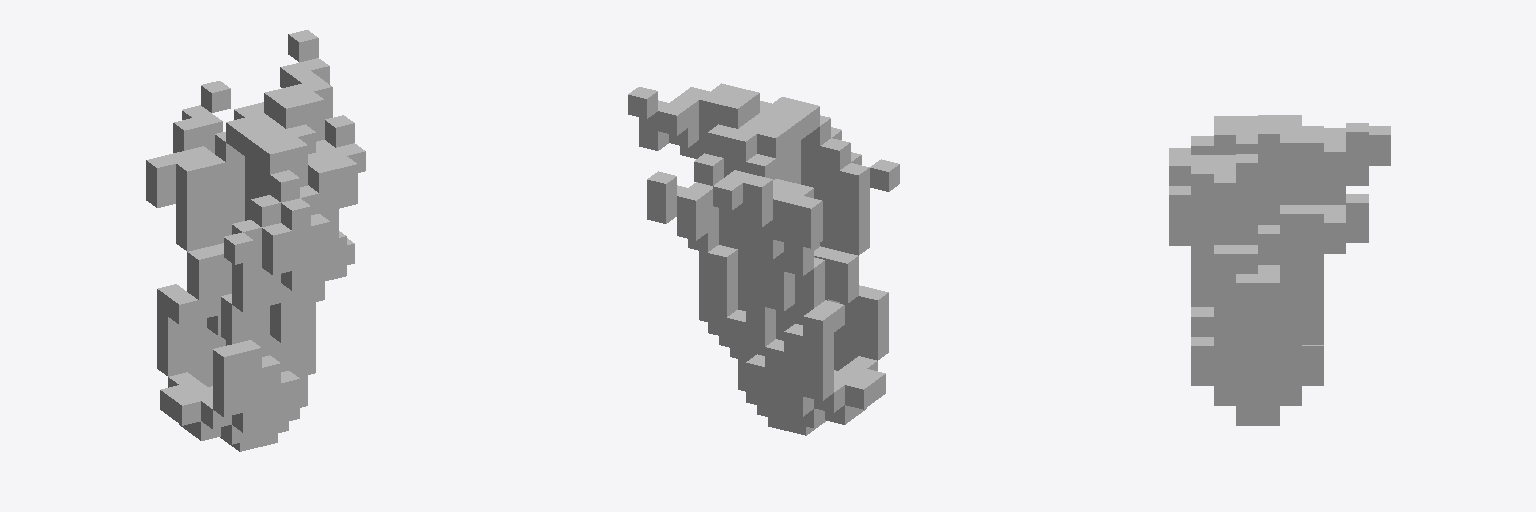
File: DaedraArmorChestplateArmLeft.obj
The picture shows the model from 3 angles: view 1: azimuth 30°, elevation 25°; view 2: azimuth 150°, elevation 25°; view 3: azimuth 270°, elevation 25°; orthographic projection.
Parts seen in each view (by area): view 1: object 1; view 2: object 1; view 3: object 1.
Part boxes in pixels (x1,y1,x2,y2): object 1: (146, 30, 365, 451); object 1: (628, 83, 899, 435); object 1: (1169, 115, 1390, 425).
Bounding box in the file's own units: 1 × 1.7 × 1.